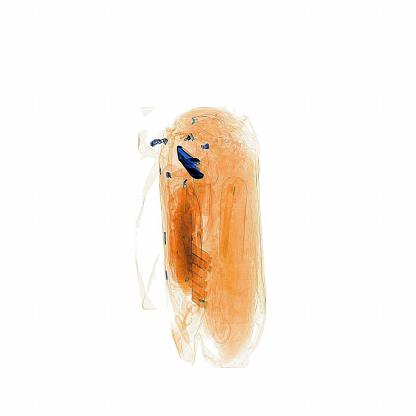pliers: (173, 142, 208, 187)
